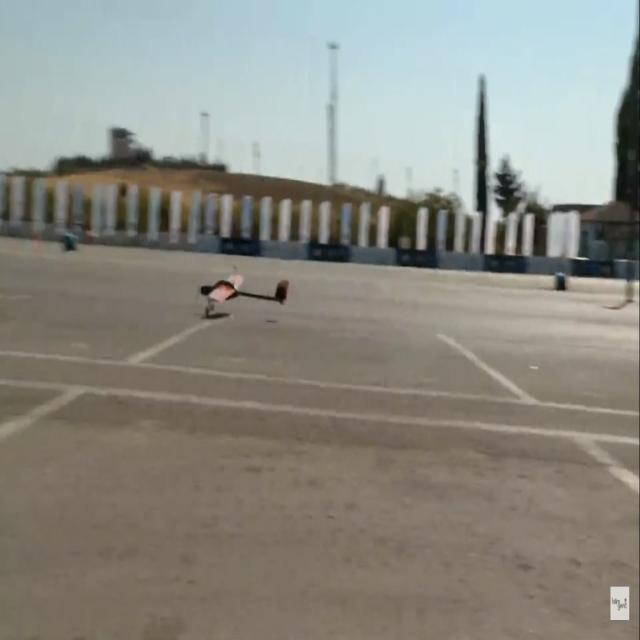iha: (232, 271, 257, 318)
